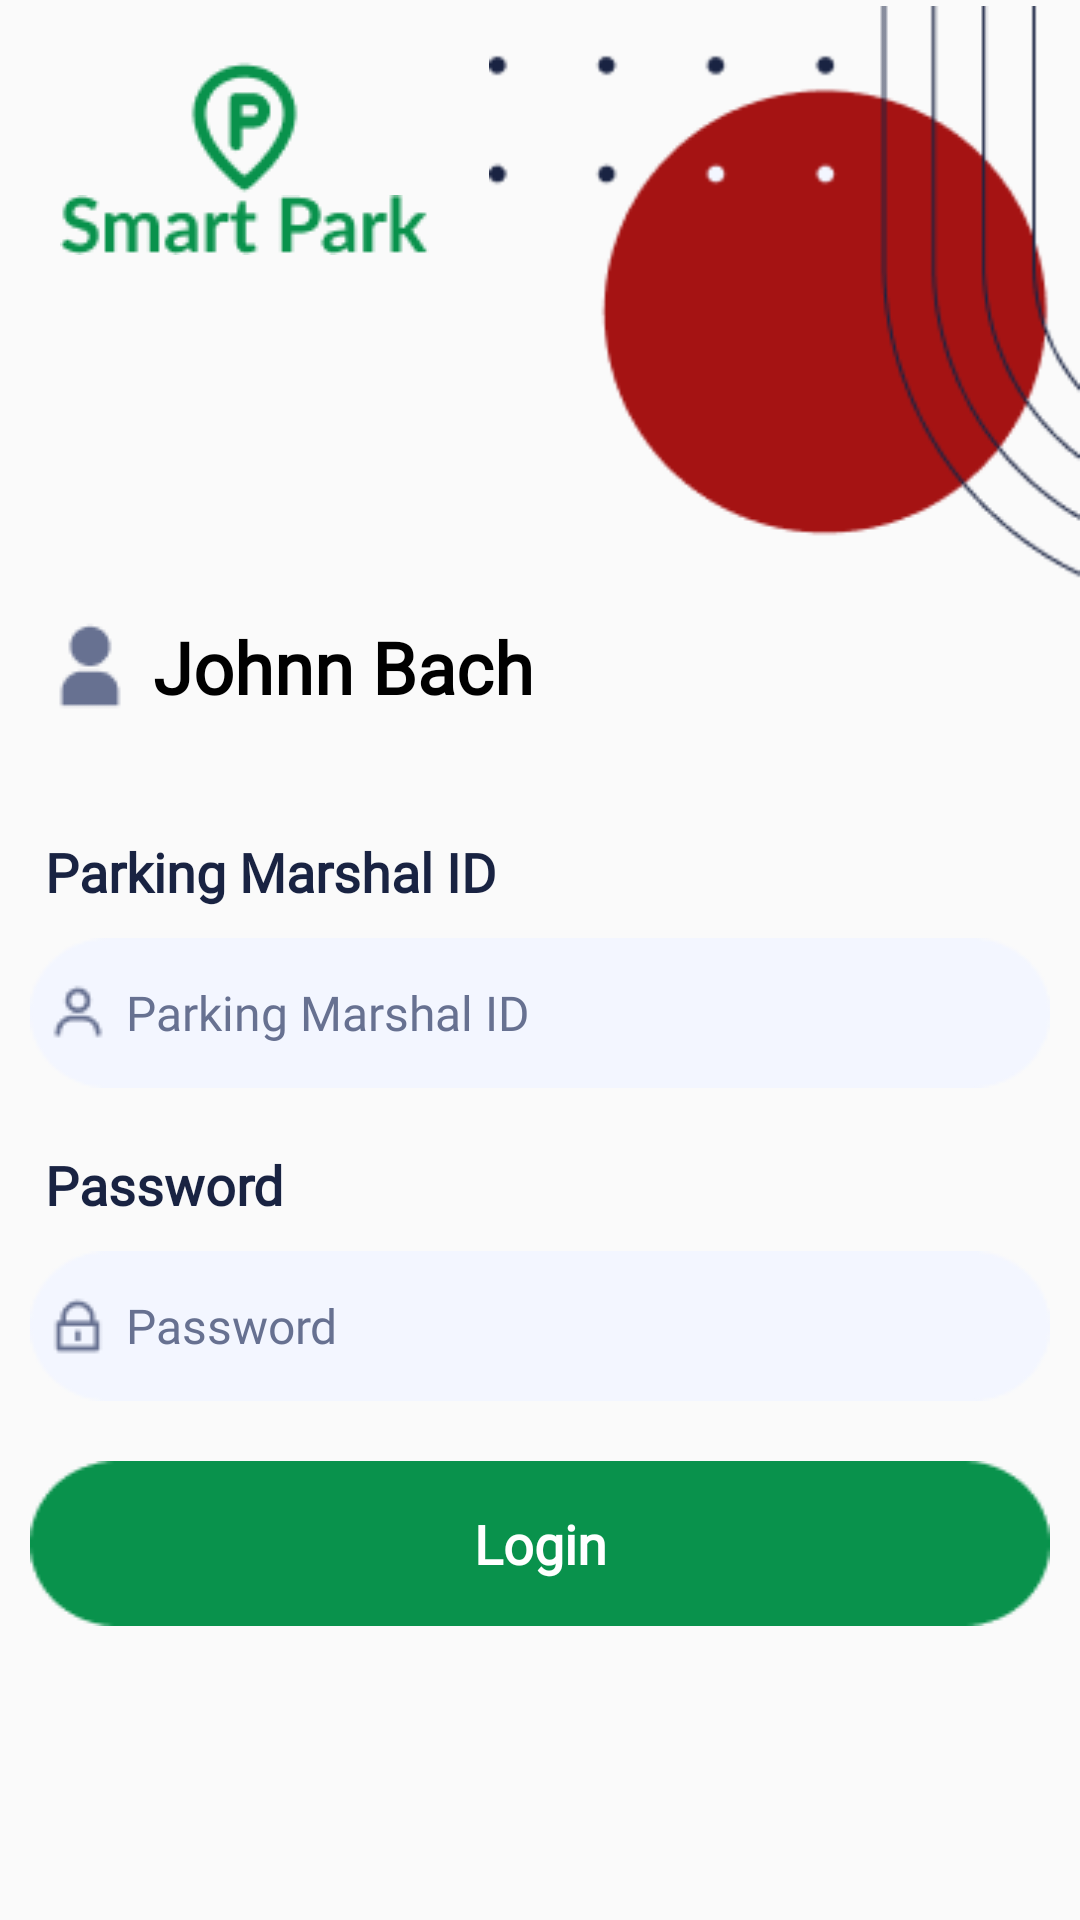

Named icons in this screenshot (1080px×1920px) and their bounding boxes, (x1,y1,x2,y2):
parking: (191,63,298,192)
